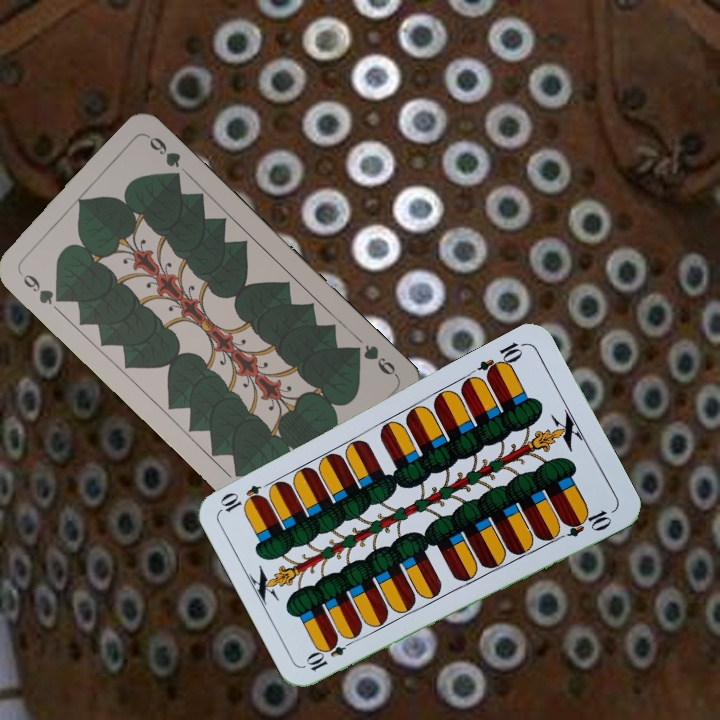E10: (474, 338, 528, 382), (302, 634, 358, 674)
G9: (15, 267, 67, 308), (347, 340, 400, 380)
